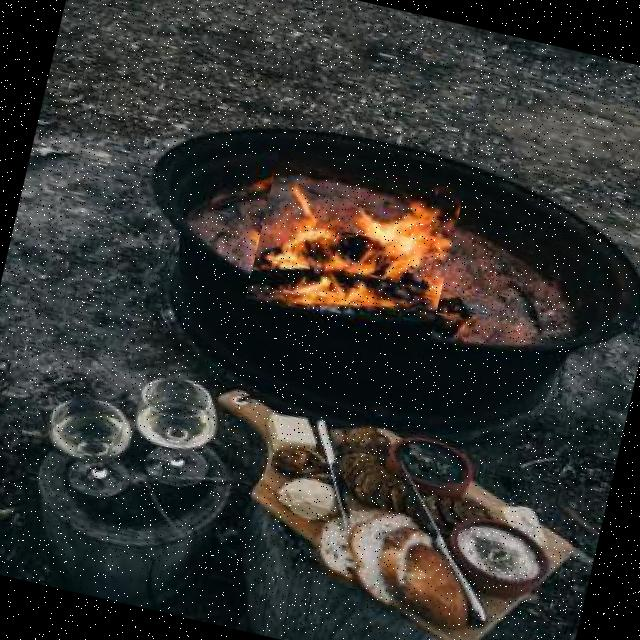fire: (242, 148, 463, 352)
